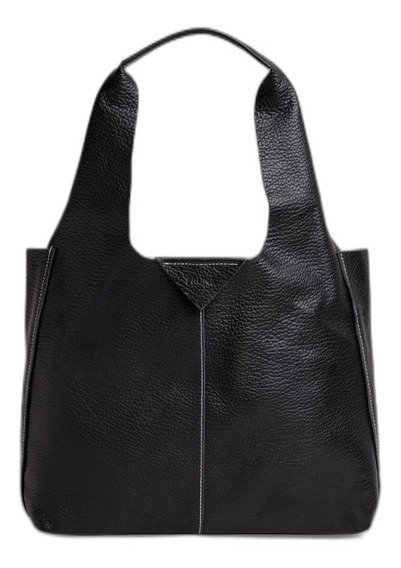cartera: (16, 24, 381, 540)
